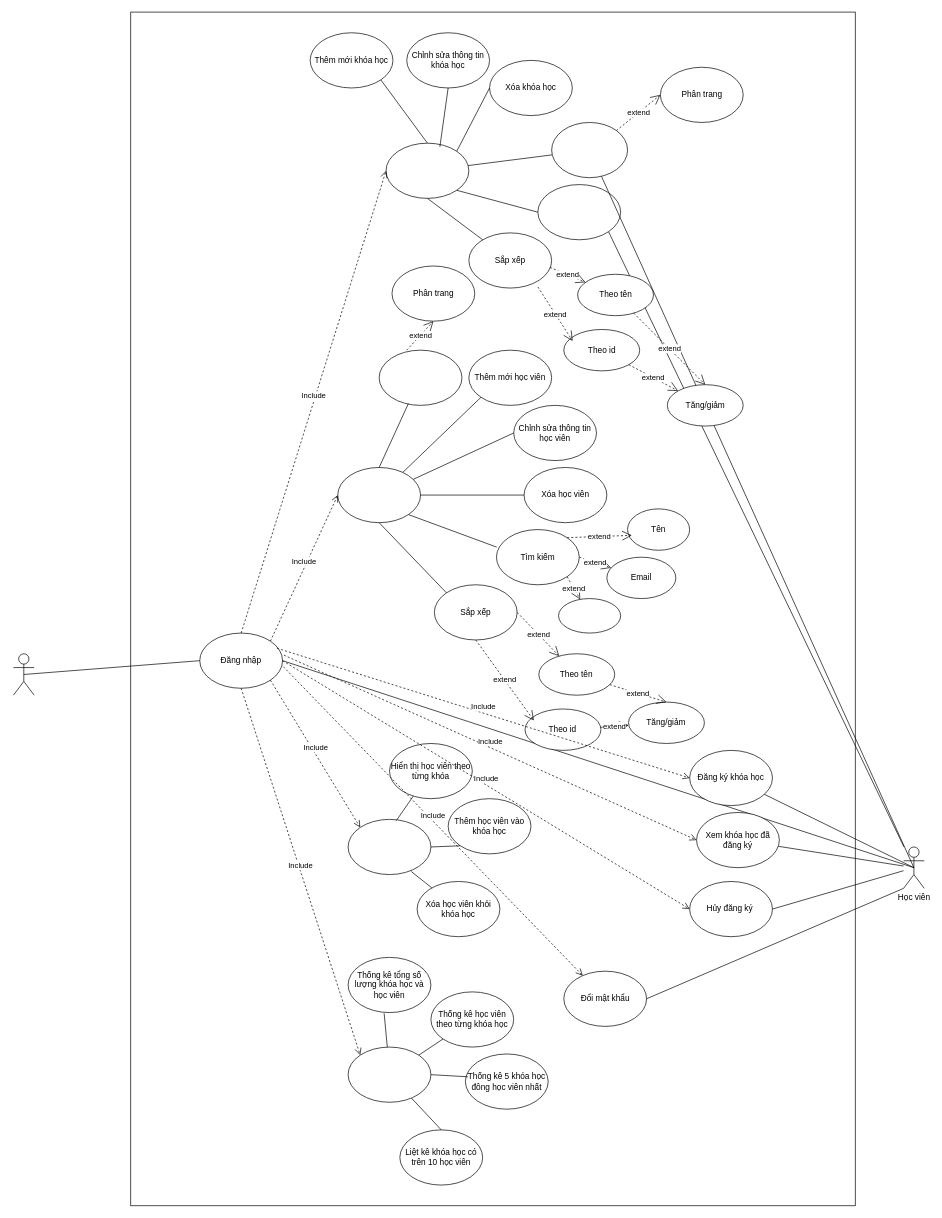
Image size: 942x1218. Some labels were removed from this diagram. Here are the shapes that lost their labels. From the top down, the box of each, then its label:
(385, 142, 469, 198): Quản lý khóa học
(551, 122, 628, 178): Hiển thị danh sách khóa học
(537, 184, 621, 240): Tìm kiếm theo tên
(378, 349, 462, 405): Hiển thị danh sách học viên
(337, 467, 421, 523): Quản lý học viên
(558, 598, 621, 633): Id
(13, 653, 34, 695): Admin
(347, 819, 431, 875): Quản lý đăng ký khóa học
(347, 1046, 431, 1102): Thống kê
